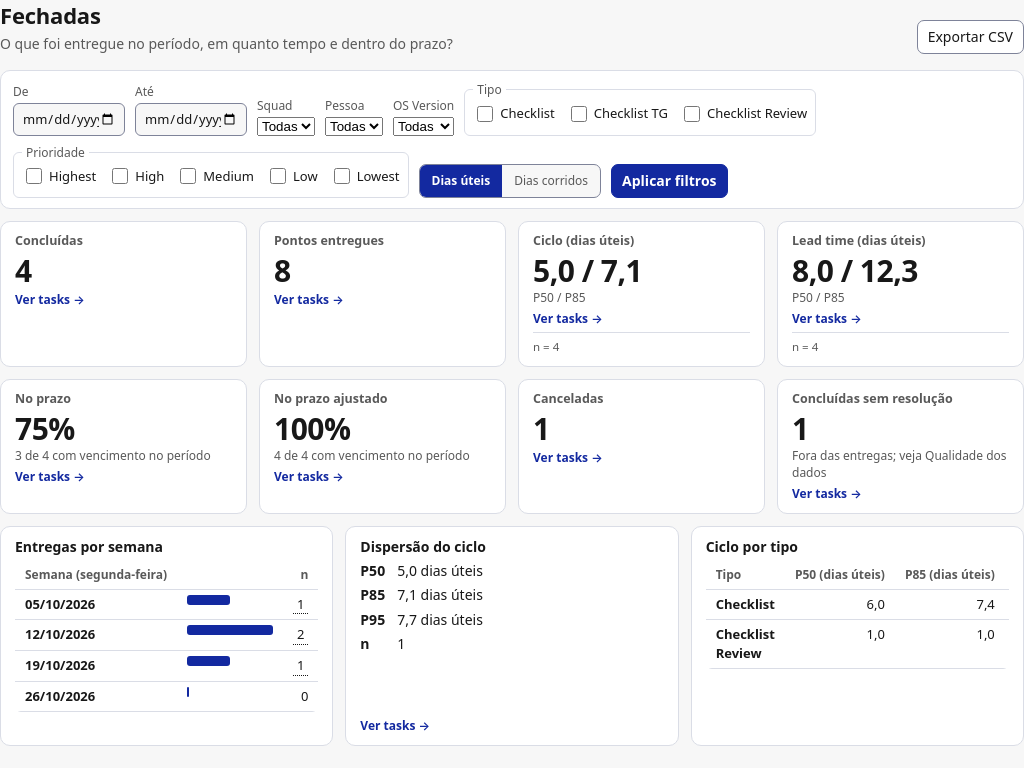
tela Fechadas › semanaAbreOSegmentoDaSemana
The image size is (1024, 768).
Click the button named "12/10/2026: 2": (301, 635) [293,625,308,645]
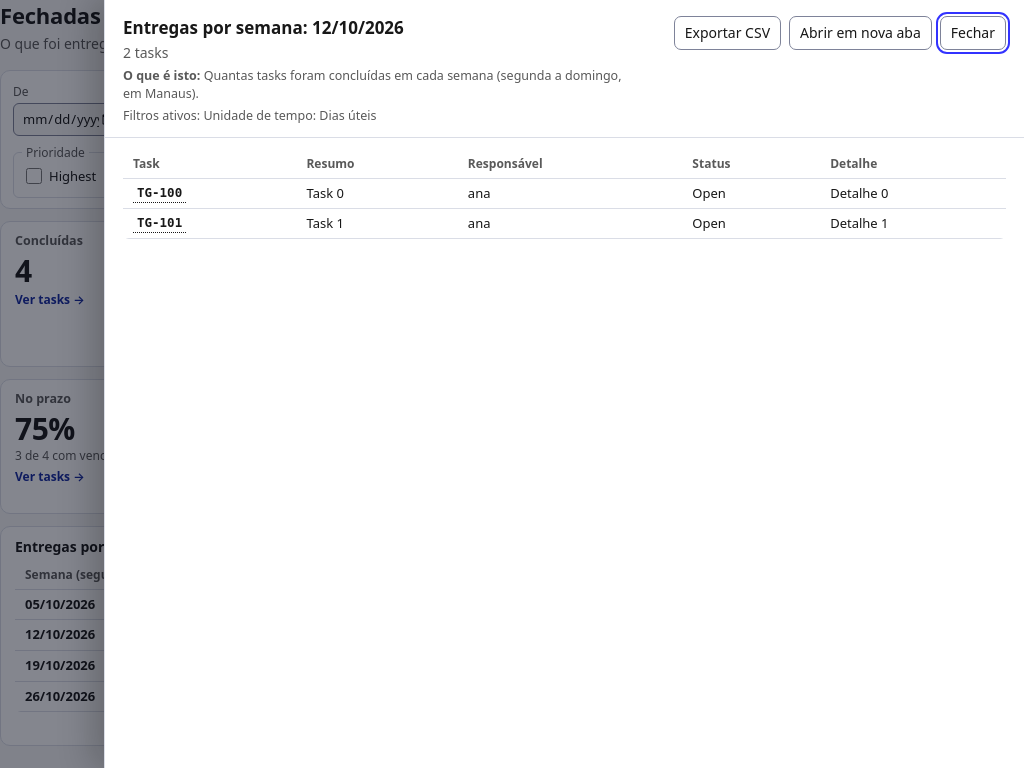
Now the dialog is shown
